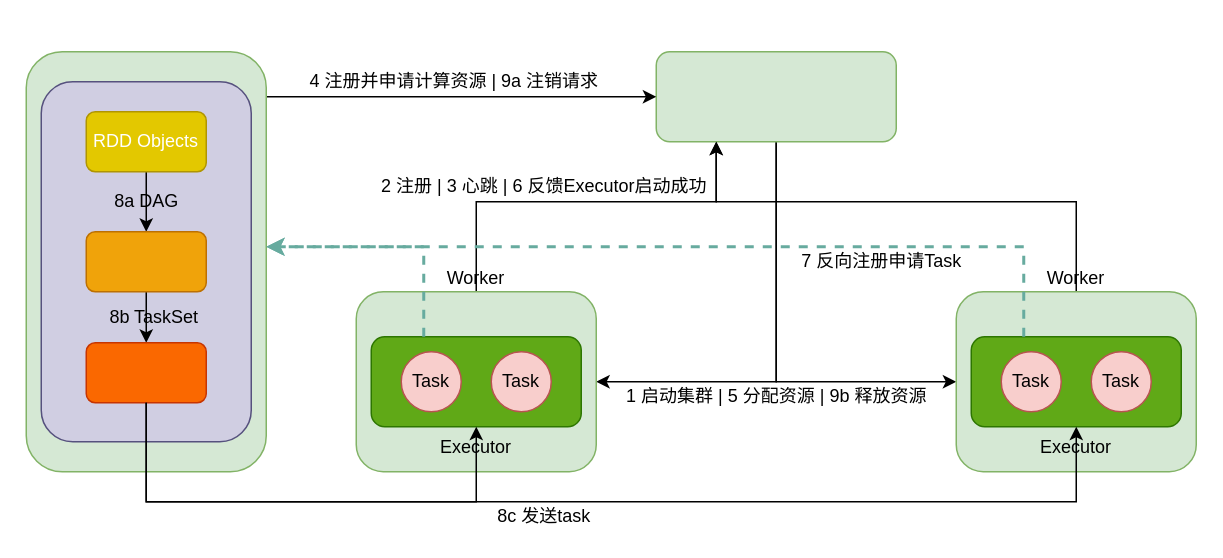
The diagram is 1223 pixels wide and 558 high, and some of its shapes have lost their labels. Here are the shapes that lost their labels. From the top down, the box of each, then its label:
(655, 50, 896, 142): Master
(85, 230, 206, 292): DAG Scheduler
(25, 50, 266, 472): Driver
(40, 80, 251, 442): SparkContext
(85, 341, 206, 403): Task Scheduler
